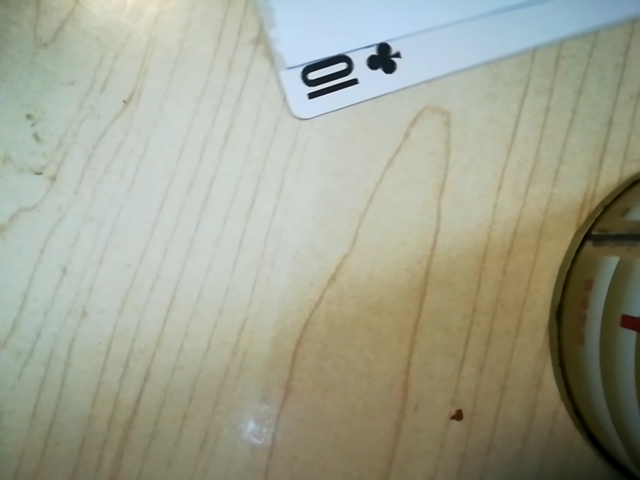mh 10: (289, 34, 414, 112)
